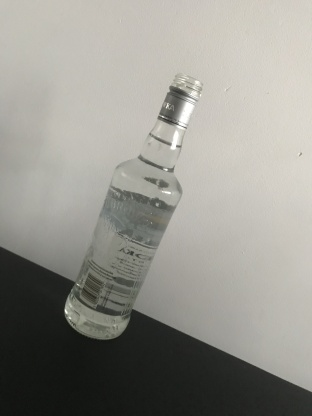nakretka: (155, 70, 204, 132)
